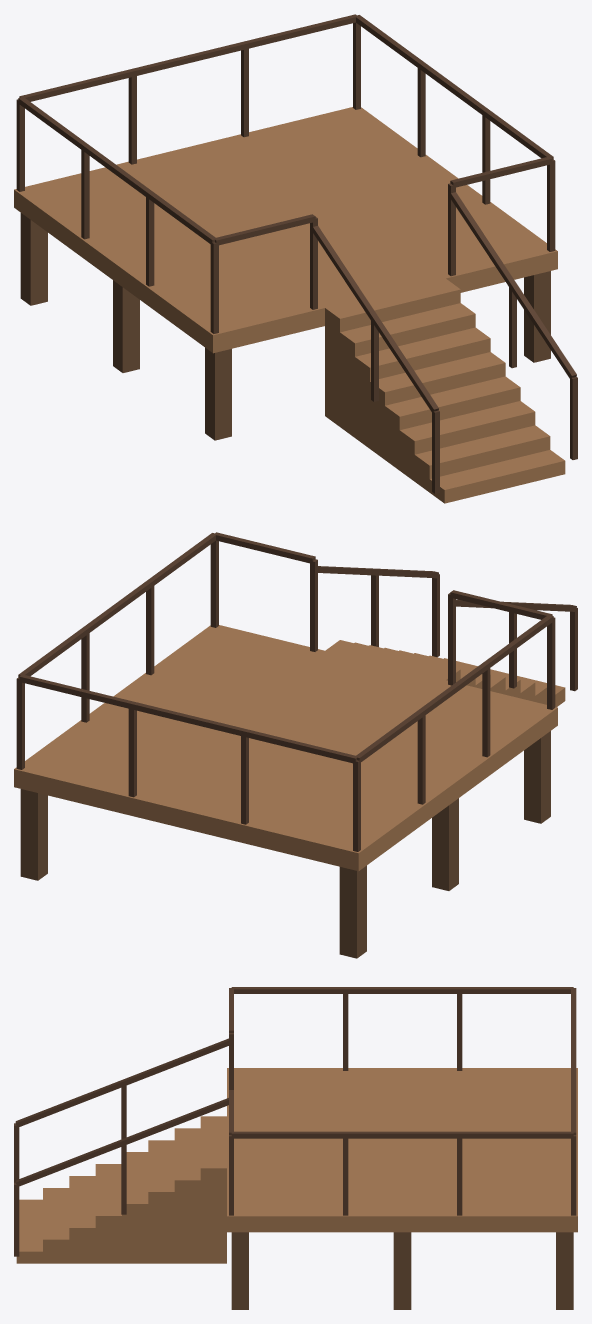
File: deck.glb
3 renders of one model, top to bottom at view 1: azimuth 30°, elevation 25°; view 2: azimuth 150°, elevation 25°; view 3: azimuth 270°, elevation 25°, orthographic. The views are drawn at different scales.
Visible parts, largest first — view 1: floor, stairs_8, stairs_7, stairs_6, stairs_5, stairs_4, stairs_3, stairs_2, stairs_1, rail_back_rail, post_0, post_2 (+22 smaller); view 2: floor, rail_back_rail, post_2, post_3, post_4, post_0, rail_left_rail, rail_right_rail, stairs_8, rail_stairs_r_rail, rail_front_r_rail, rail_front_l_rail (+16 smaller); view 3: floor, stairs_8, stairs_7, stairs_6, stairs_5, rail_right_rail, stairs_4, stairs_3, rail_left_rail, stairs_2, rail_stairs_l_rail, rail_stairs_r_rail (+12 smaller).
Part boxes in pixels (left/top/right/bottom): floor: left=14, top=107, right=557, bottom=353; stairs_8: left=325, top=278, right=460, bottom=426; stairs_7: left=340, top=303, right=475, bottom=437; stairs_6: left=355, top=327, right=490, bottom=448; stairs_5: left=370, top=352, right=505, bottom=459; stairs_4: left=385, top=376, right=520, bottom=470; stairs_3: left=399, top=401, right=535, bottom=481; stairs_2: left=414, top=425, right=550, bottom=492; stairs_1: left=429, top=450, right=565, bottom=503; rail_back_rail: left=19, top=14, right=356, bottom=101; post_0: left=205, top=347, right=231, bottom=440; post_2: left=20, top=213, right=47, bottom=305; floor: left=14, top=625, right=557, bottom=871; rail_back_rail: left=19, top=675, right=356, bottom=763; post_2: left=339, top=865, right=366, bottom=958; post_3: left=20, top=789, right=47, bottom=880; post_4: left=432, top=798, right=458, bottom=890; post_0: left=524, top=731, right=550, bottom=823; rail_left_rail: left=355, top=615, right=553, bottom=761; rail_right_rail: left=18, top=533, right=215, bottom=677; stairs_8: left=325, top=640, right=460, bottom=681; rail_stairs_r_rail: left=316, top=566, right=438, bottom=578; rail_front_r_rail: left=213, top=532, right=315, bottom=563; rail_front_l_rail: left=450, top=590, right=552, bottom=619; floor: left=227, top=1068, right=577, bottom=1232; stairs_8: left=200, top=1116, right=226, bottom=1263; stairs_7: left=174, top=1128, right=200, bottom=1263; stairs_6: left=148, top=1140, right=174, bottom=1263; stairs_5: left=122, top=1152, right=148, bottom=1263; rail_right_rail: left=231, top=1131, right=573, bottom=1138; stairs_4: left=95, top=1164, right=121, bottom=1263; stairs_3: left=69, top=1176, right=95, bottom=1263; rail_left_rail: left=231, top=987, right=573, bottom=993; stairs_2: left=43, top=1188, right=69, bottom=1263; rail_stairs_l_rail: left=15, top=1038, right=228, bottom=1127; rail_stairs_r_rail: left=15, top=1098, right=228, bottom=1186.
Size of the model in its own units: 4 by 2.23 by 6.43.
